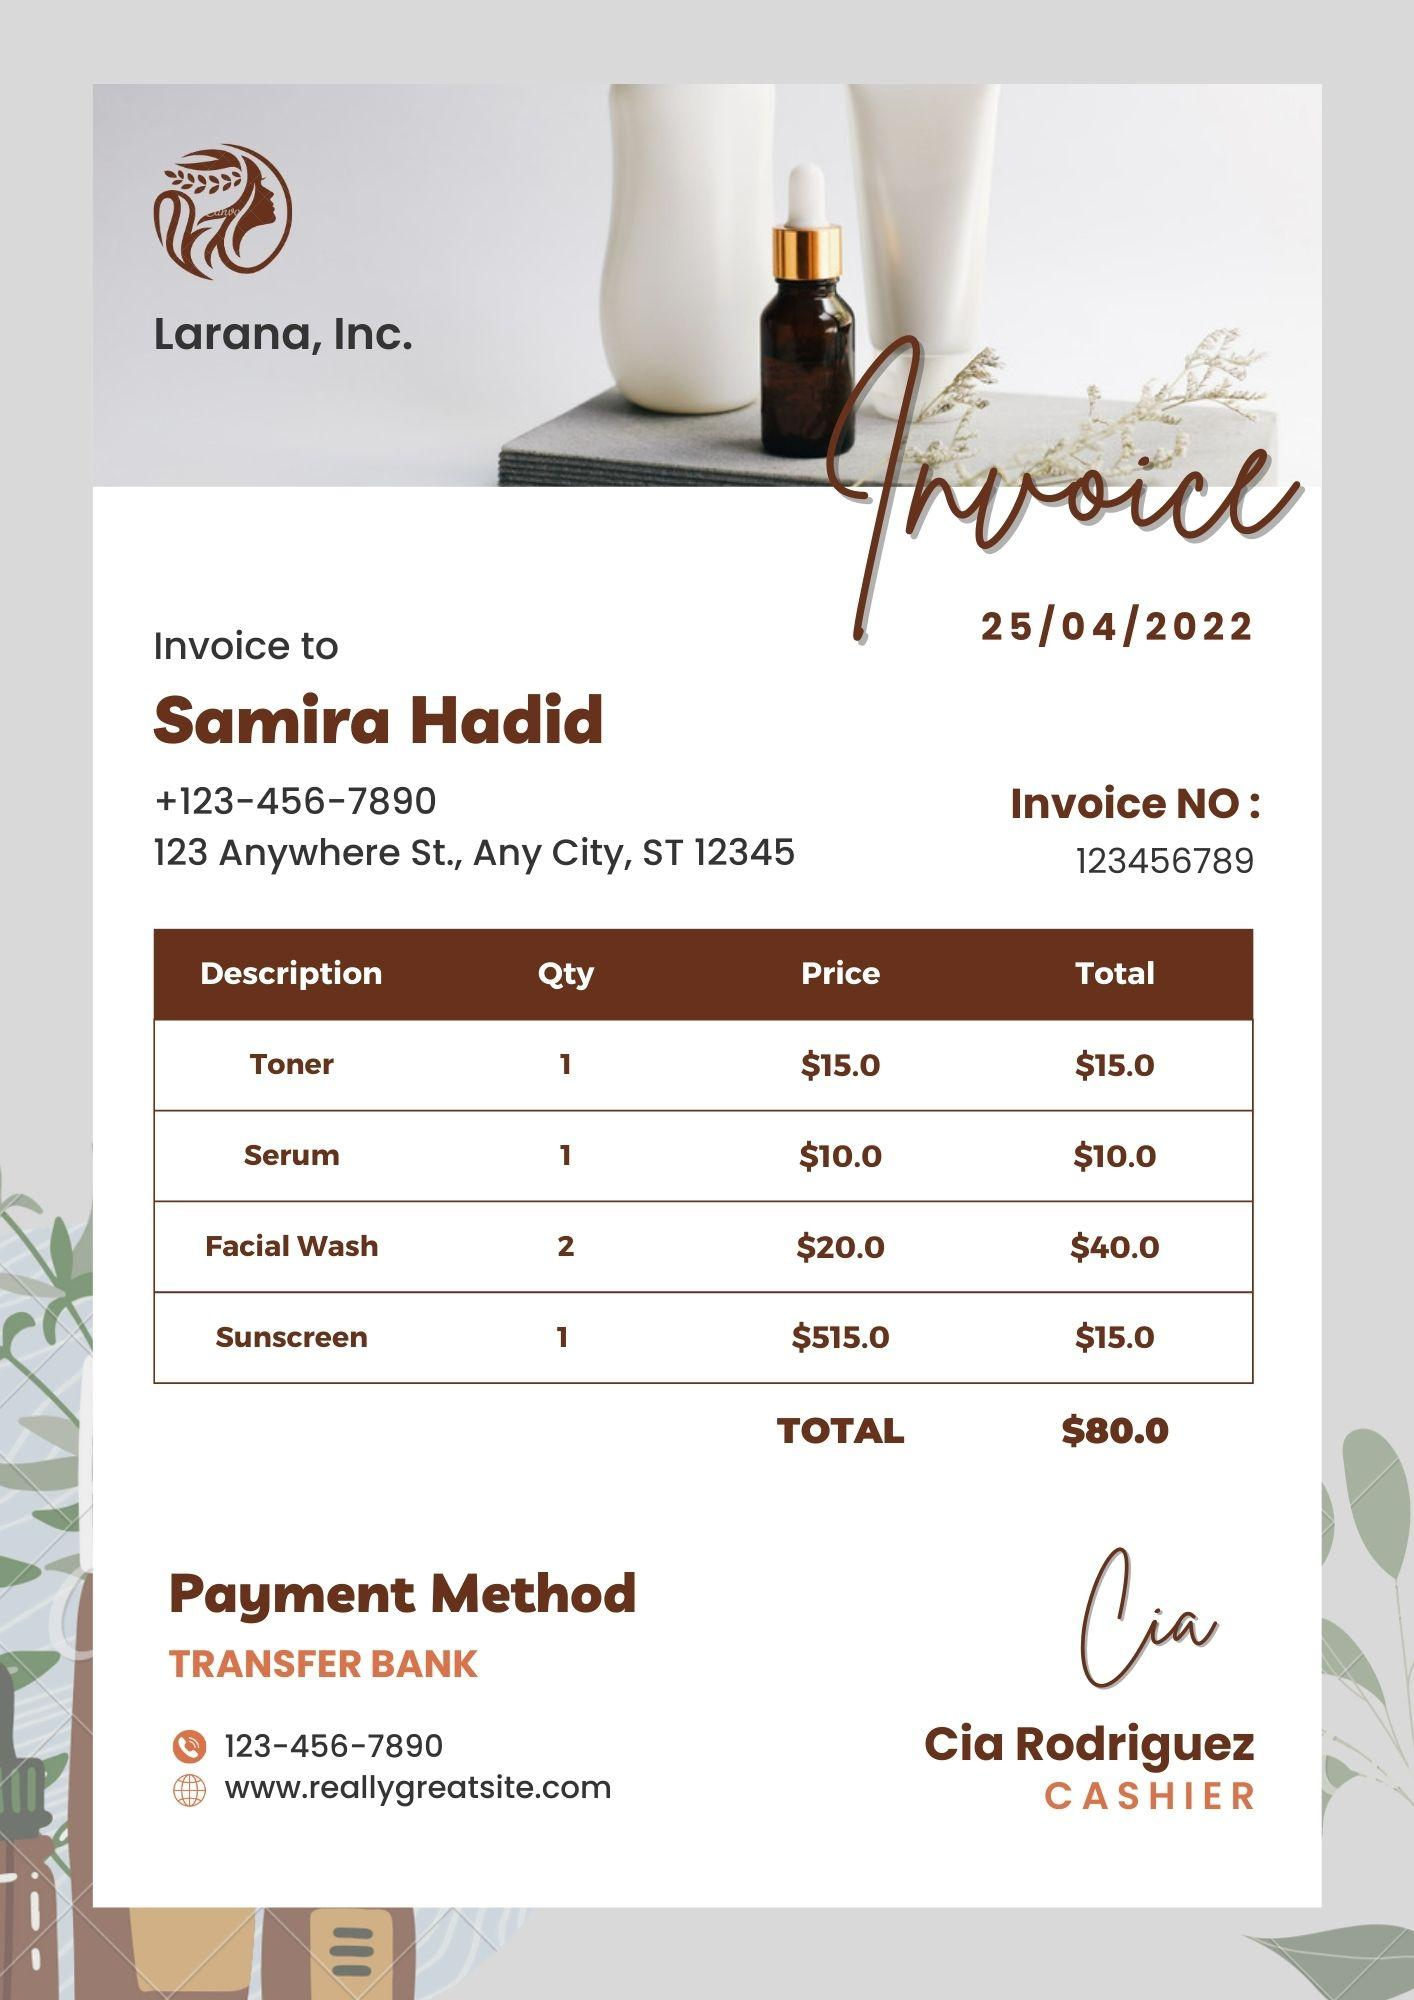ROI: (145, 912, 1261, 1386)
